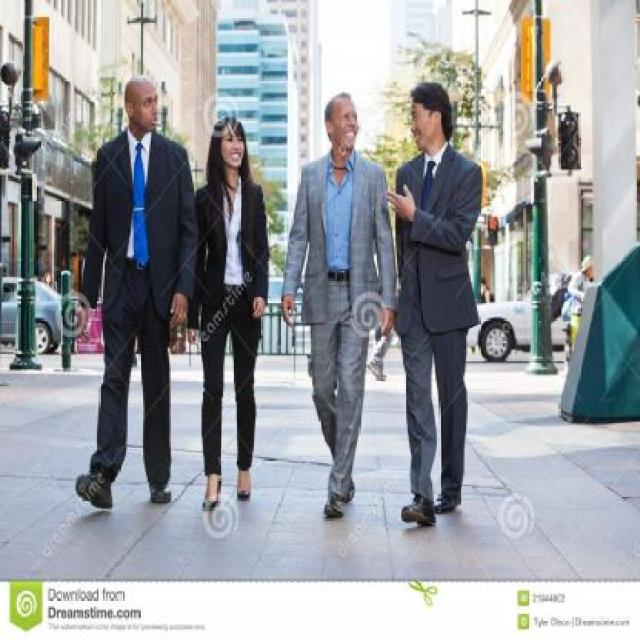sem_oculos: (325, 105, 369, 134), (404, 110, 454, 132), (112, 95, 165, 113), (211, 134, 250, 146)
